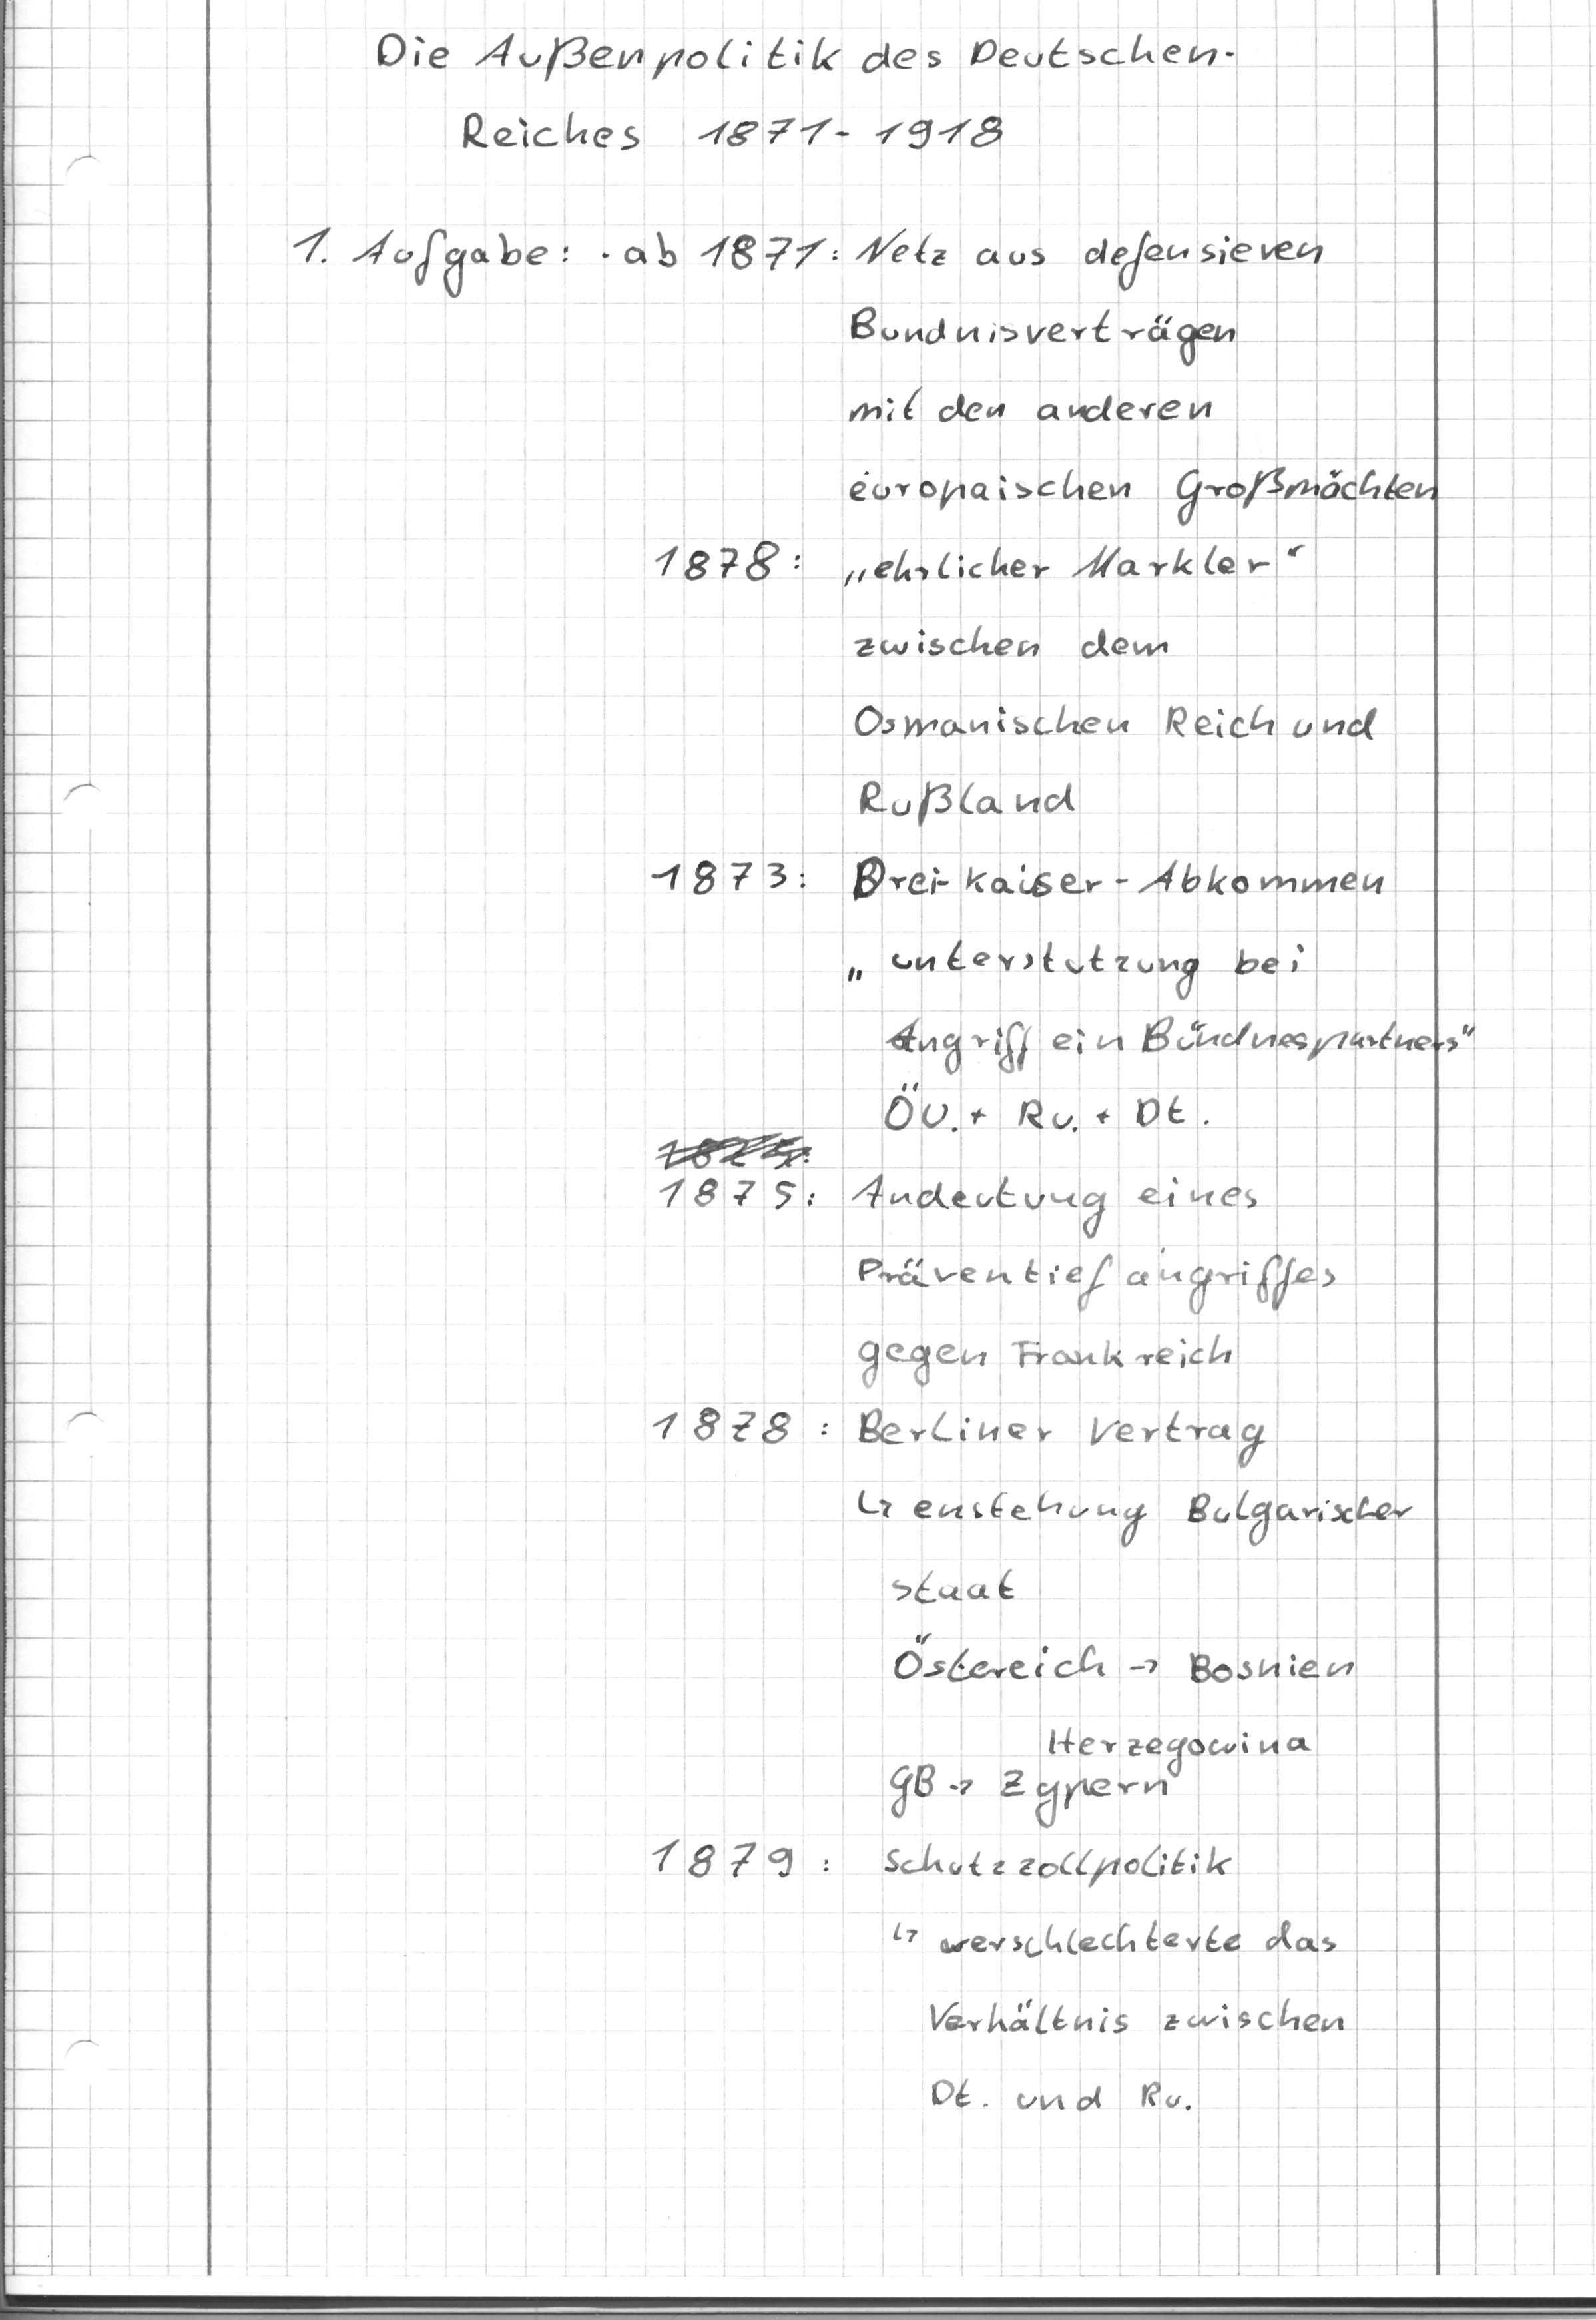word: (842, 843, 1493, 1145), (843, 221, 1454, 535), (830, 531, 1400, 835), (864, 1825, 1358, 2128), (360, 14, 1246, 170), (838, 1155, 1348, 1395), (846, 1399, 1424, 1555), (880, 1560, 1363, 1700), (276, 200, 852, 315), (874, 1711, 1327, 1838), (627, 1115, 830, 1225), (633, 519, 821, 610), (633, 1381, 834, 1461), (637, 835, 828, 918), (635, 1816, 834, 1888)
